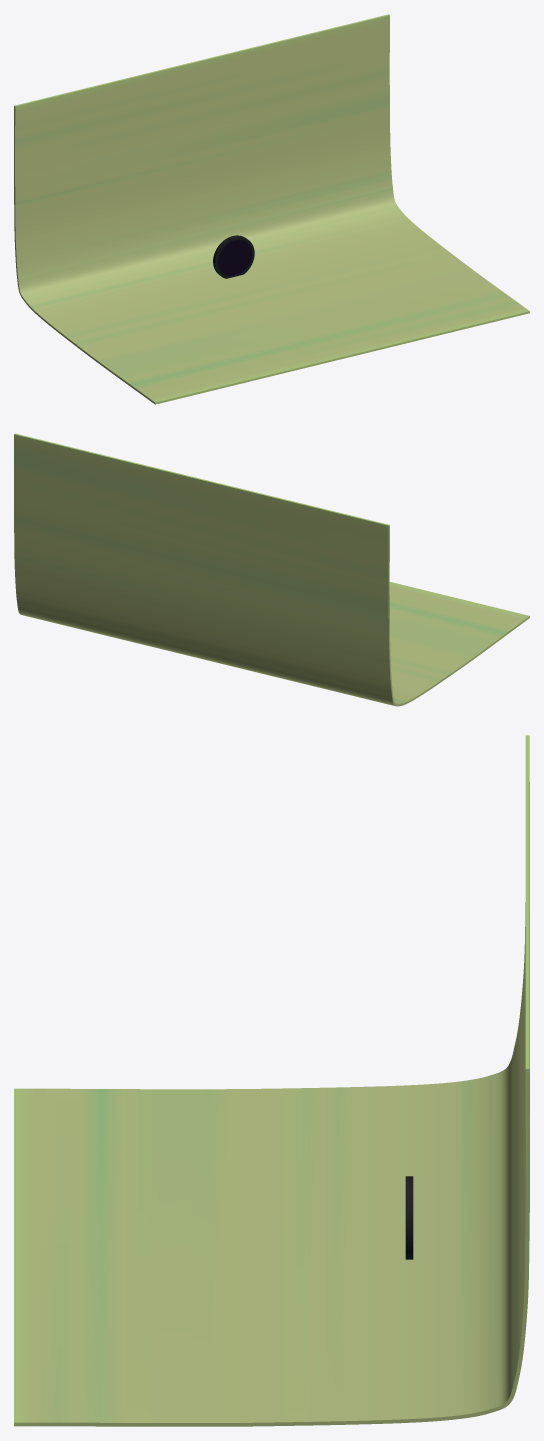
3 renders of one model, top to bottom at view 1: azimuth 30°, elevation 25°; view 2: azimuth 150°, elevation 25°; view 3: azimuth 270°, elevation 25°, orthographic. The views are drawn at different scales.
Parts seen in each view (by area): view 1: sheet, raised_rim; view 2: sheet; view 3: sheet.
Boxes of the visible parts, x1=… form: sheet: x1=14, y1=14, x2=529, y2=404; raised_rim: x1=213, y1=235, x2=254, y2=278; sheet: x1=14, y1=433, x2=529, y2=706; sheet: x1=14, y1=735, x2=529, y2=1426.
Size of the model in its own units: 0.7018 by 0.3507 by 0.4584.
